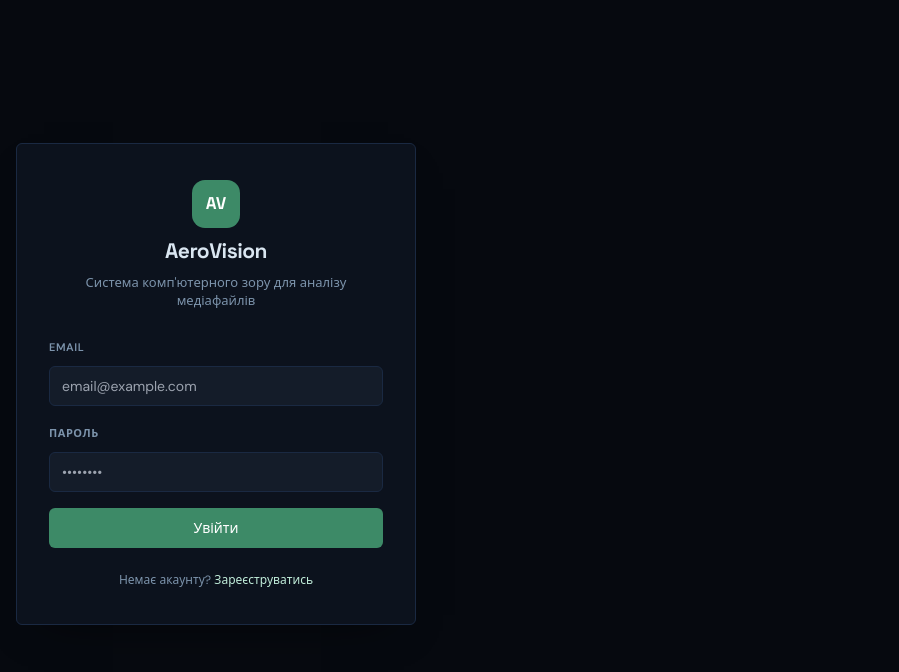
Phase 24 auth routes › renders login page in Ukrainian and shows Ukrainian failed-login error
This screenshot has width=899, height=672.
Expected: the heading "AeroVision" is shown, [165, 238, 267, 264]
Type "bad@example.com" into the field labelled "Email".
click(216, 386); type("bad@example.com")  # box [49, 366, 383, 406]
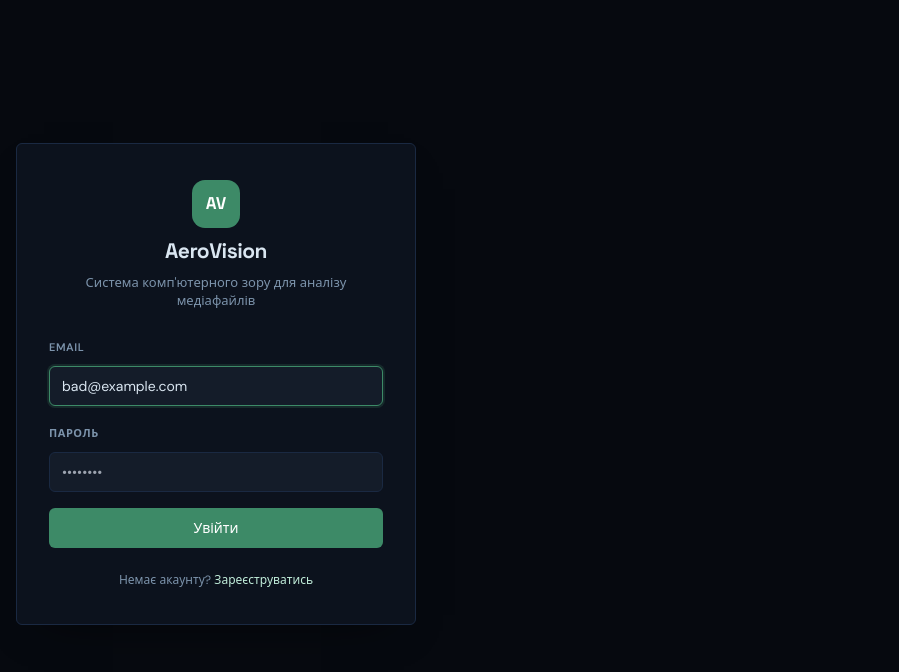
Type "wrongpass" into the password field labelled "Пароль".
click(216, 472); type("wrongpass")  # box [49, 452, 383, 492]
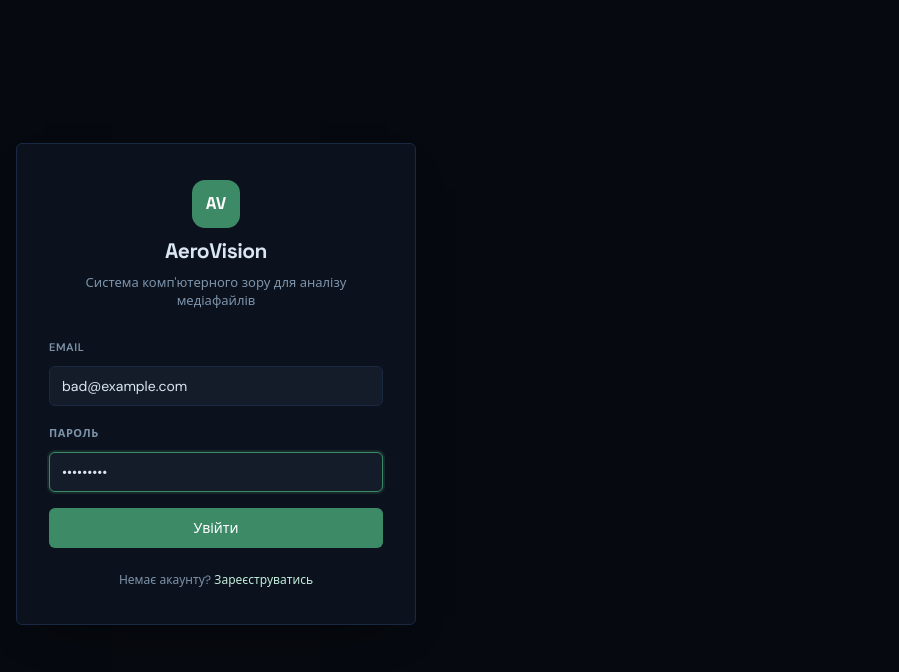
Click the button "Увійти".
click(216, 528)  # box [49, 508, 383, 548]
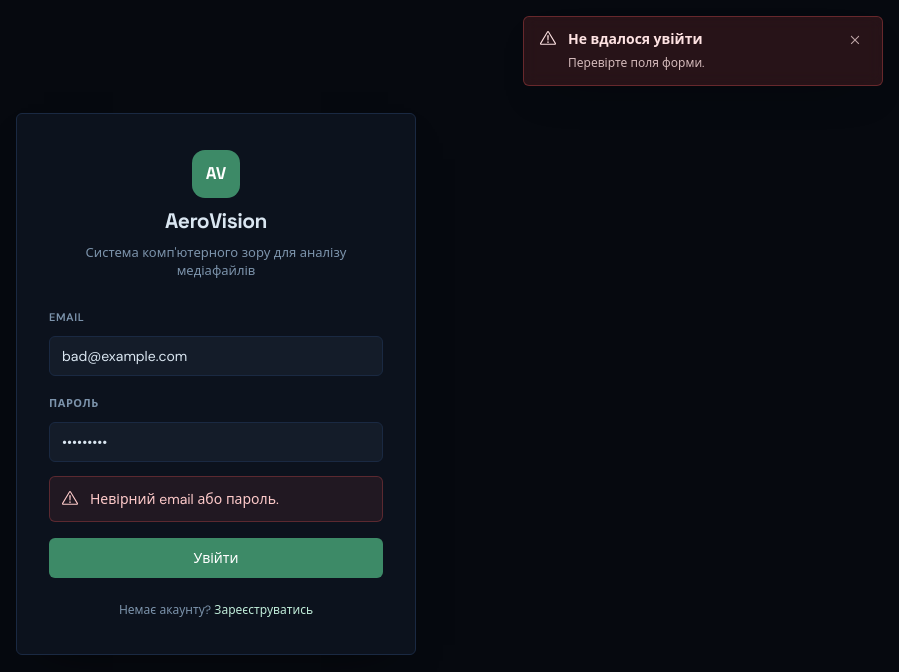
Result: the text "Невірний email або пароль." is shown at [90, 489, 279, 509]
Result: the text "Не вдалося увійти" is shown at [568, 30, 702, 48]
